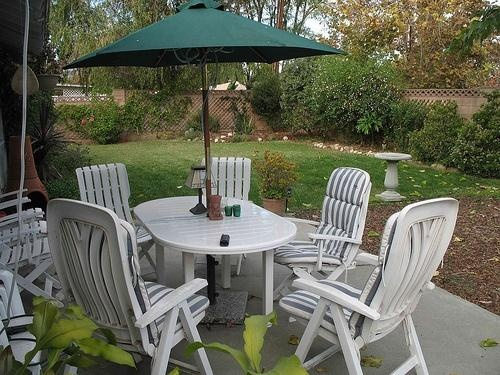chair: (278, 201, 456, 375), (47, 199, 213, 375), (272, 170, 373, 301), (74, 165, 164, 282), (189, 156, 252, 276), (2, 192, 60, 298)
